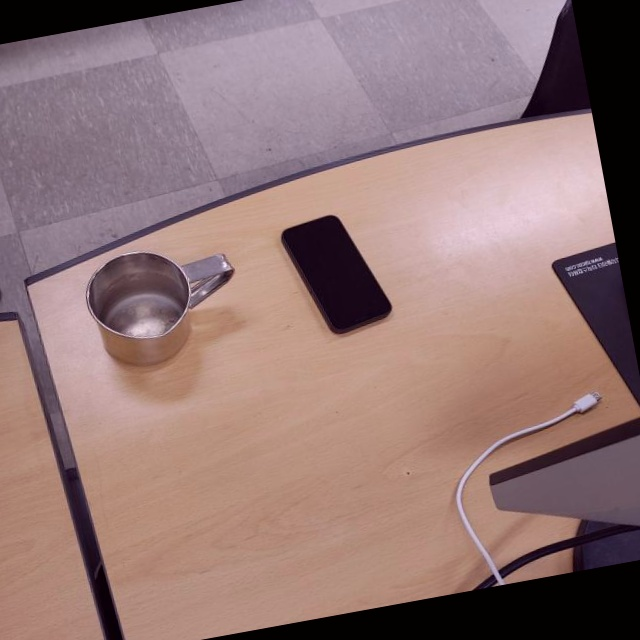cup: (79, 233, 250, 377)
phone: (275, 206, 396, 343)
